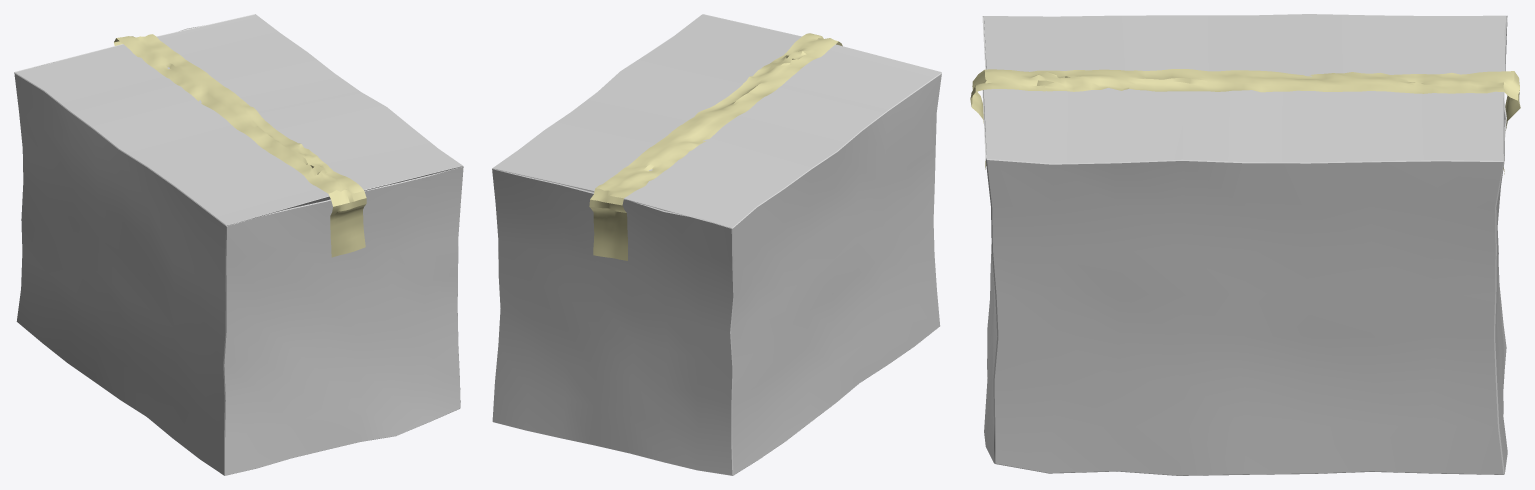
File: dummy-box-large.fbx
3 renders of one model, left to right at view 1: azimuth 30°, elevation 25°; view 2: azimuth 150°, elevation 25°; view 3: azimuth 270°, elevation 25°, orthographic. The views are drawn at different scales.
Visible parts, largest first — view 1: Cube, Plane; view 2: Cube, Plane; view 3: Cube, Plane.
Boxes of the visible parts, box(x1,y1,x2,y2) form: Cube: box(14, 14, 463, 475); Plane: box(114, 34, 366, 257); Cube: box(492, 14, 941, 475); Plane: box(589, 33, 842, 260); Cube: box(982, 14, 1507, 475); Plane: box(970, 69, 1520, 174).
Size of the model in its own units: 202 by 209 by 319.
